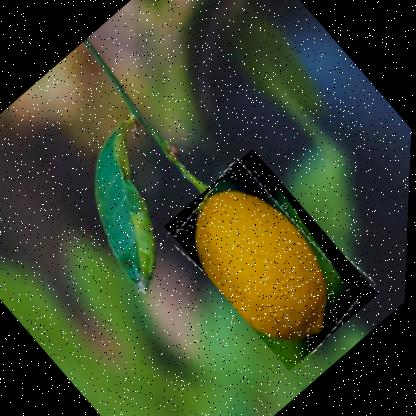lemon: (160, 148, 383, 372)
